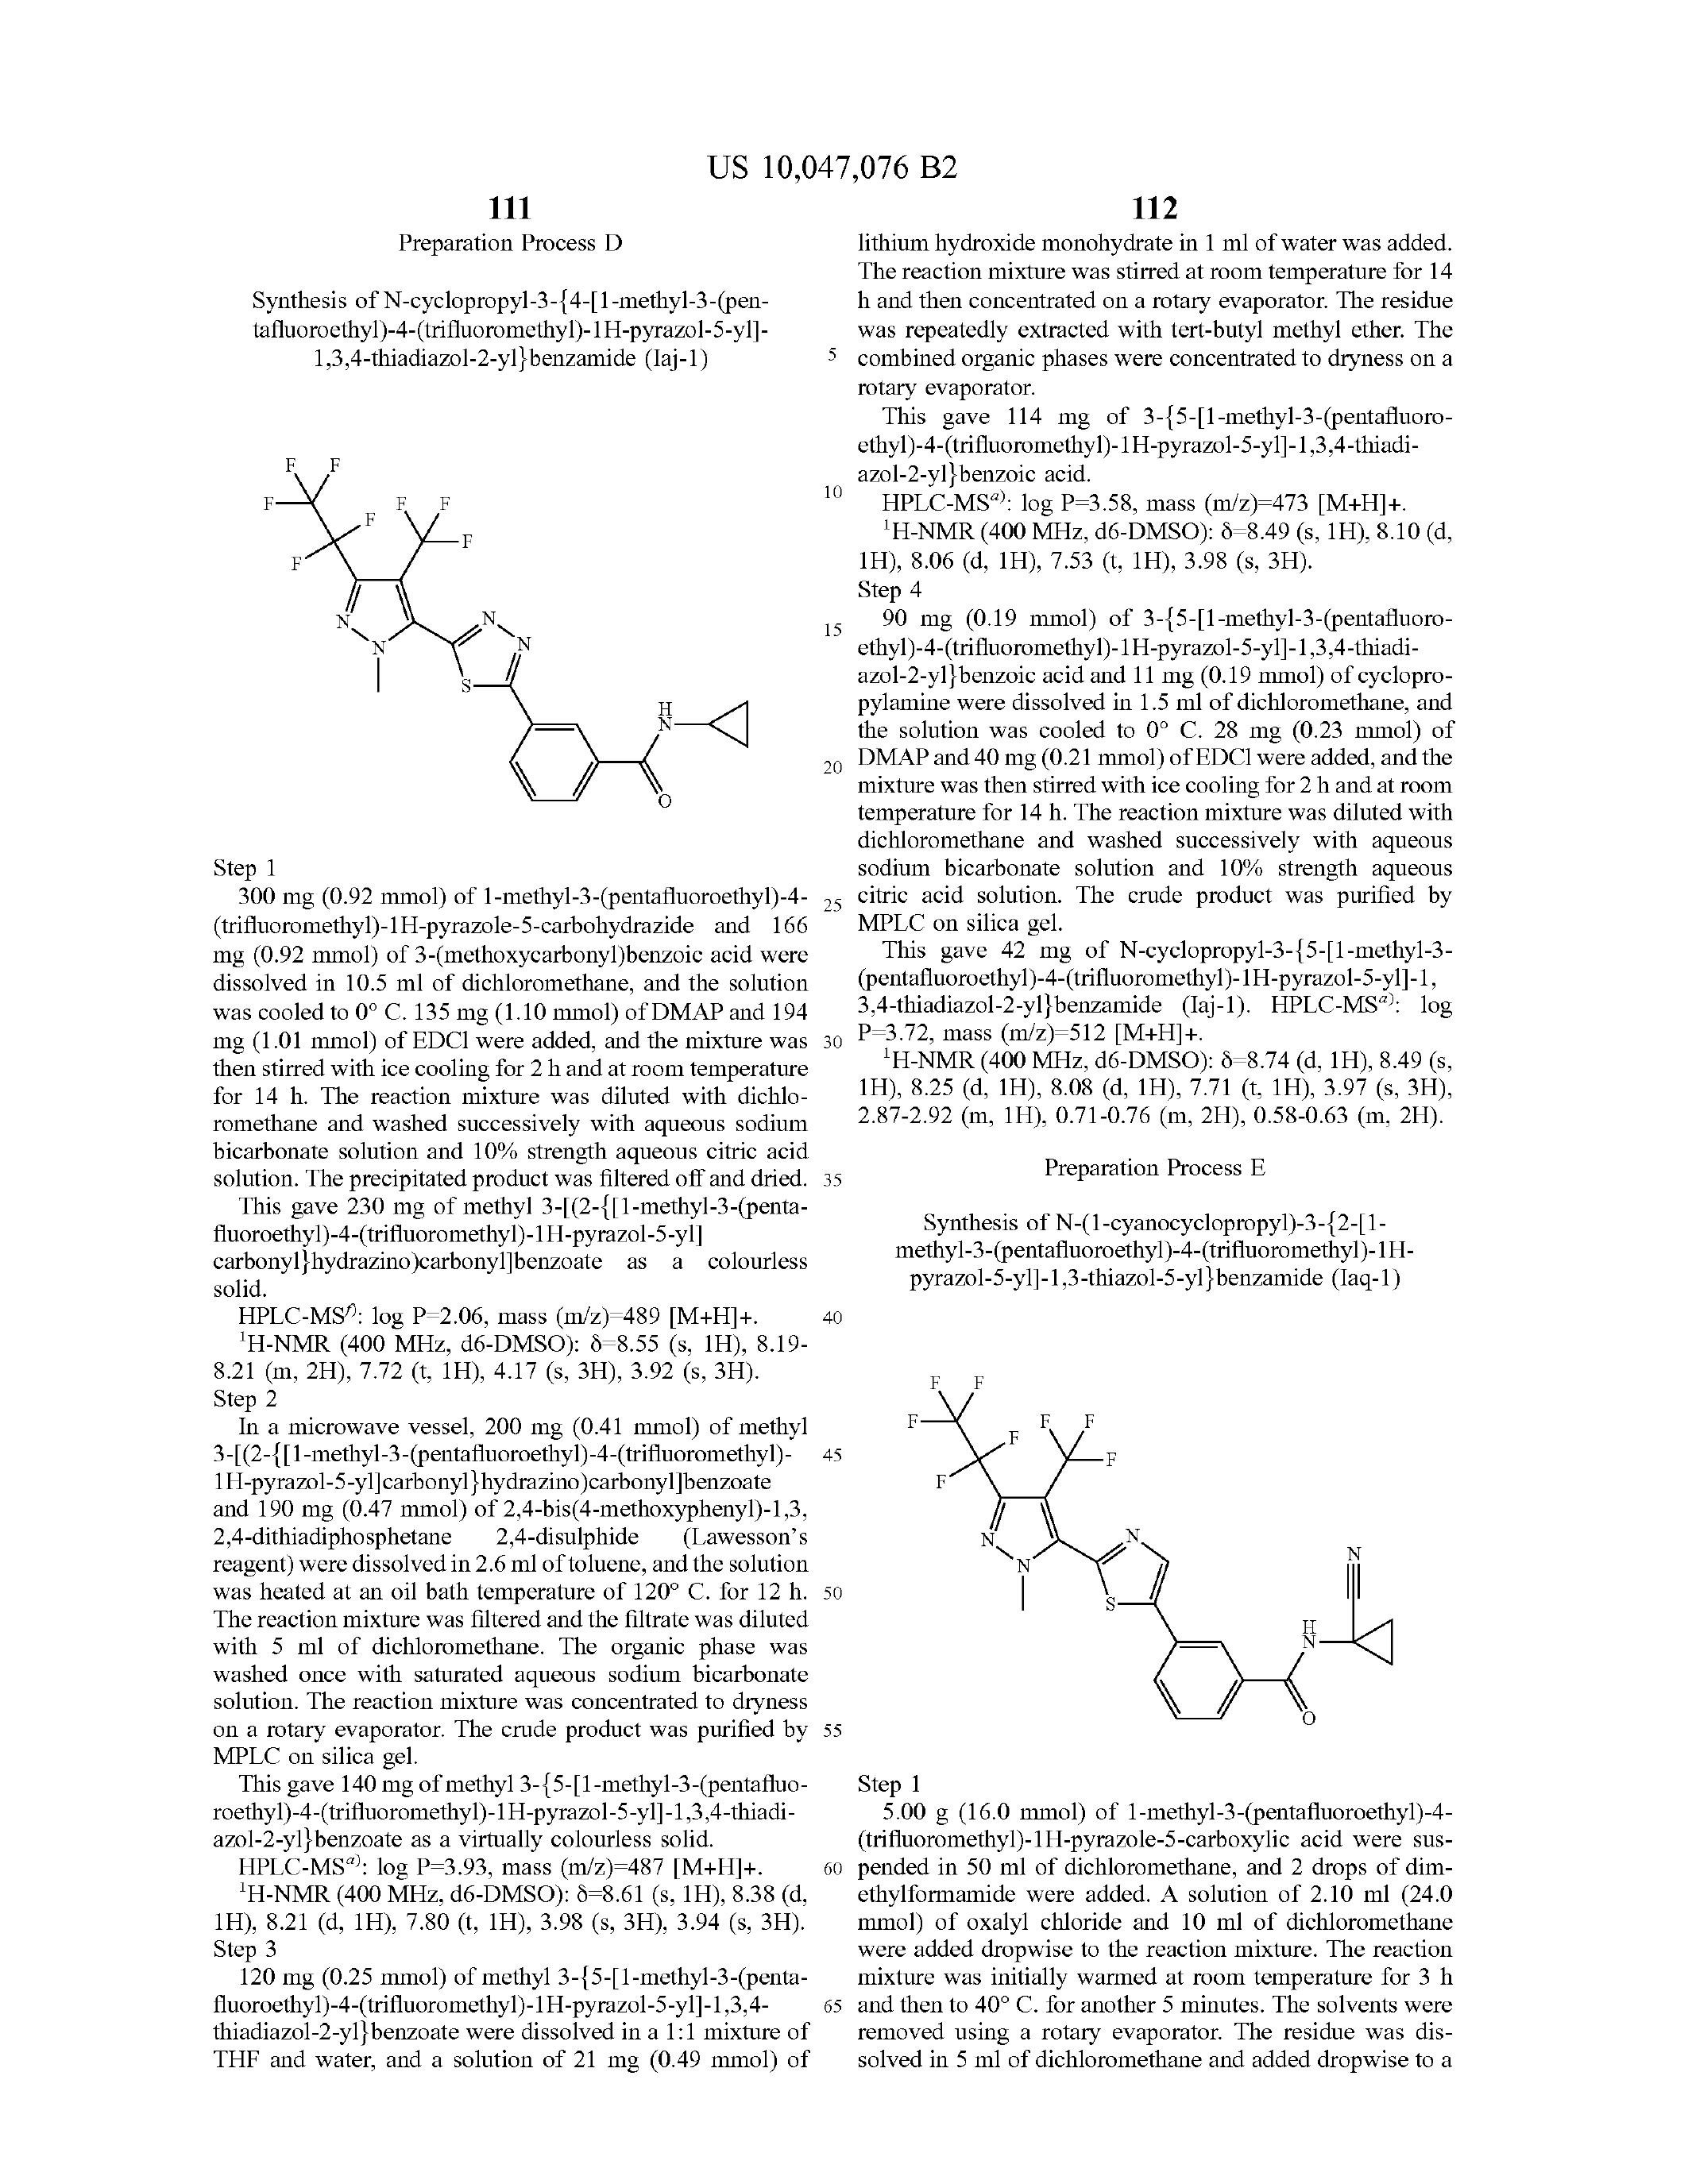relevant-structures: (231, 413, 801, 854), (908, 1354, 1420, 1773)
